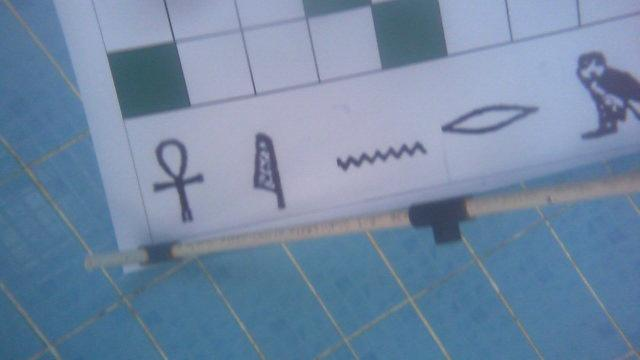Ankh: (143, 138, 210, 225)
Mouth: (437, 98, 542, 140)
Owl: (570, 46, 640, 141)
Reed: (251, 130, 289, 211)
Water: (333, 138, 429, 173)
